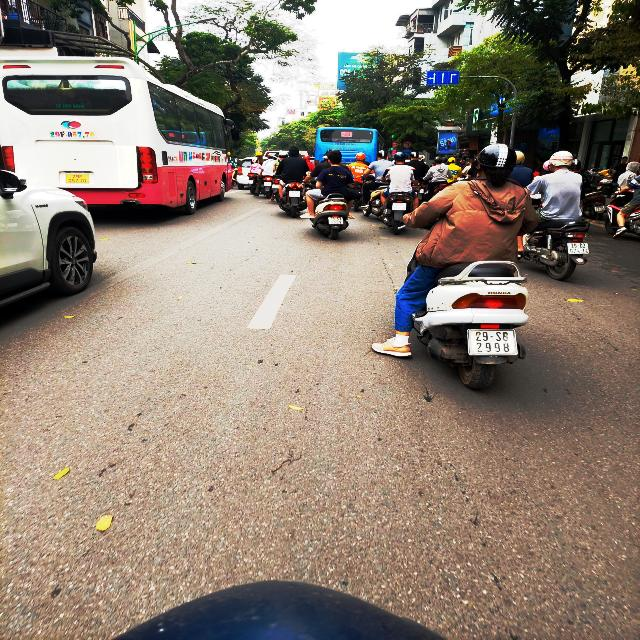license_plate: (470, 330, 518, 356), (568, 244, 590, 256), (66, 175, 91, 184), (393, 203, 408, 212), (330, 218, 345, 225), (290, 192, 301, 198), (265, 183, 273, 187), (273, 185, 280, 189)
